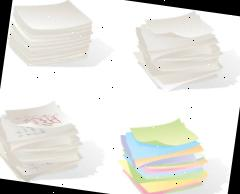paper: (128, 2, 230, 98), (112, 109, 215, 194), (0, 92, 90, 189), (4, 0, 96, 74)
